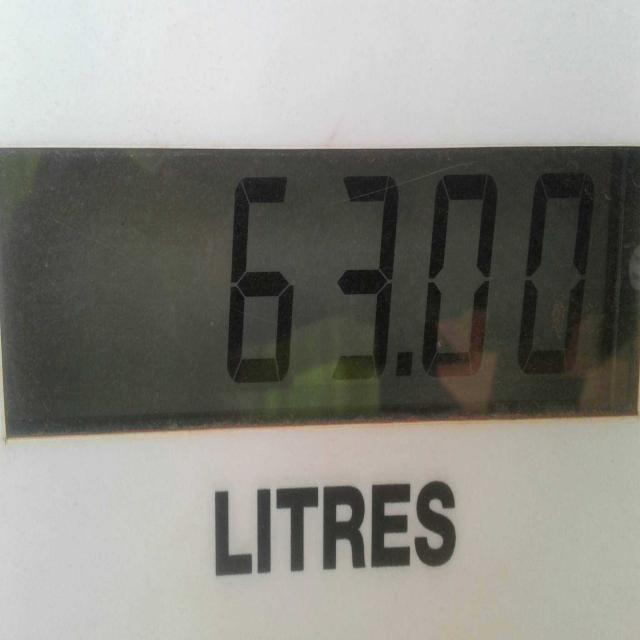.: (388, 328, 422, 403)
0: (516, 154, 610, 413), (419, 169, 503, 398)
3: (320, 163, 409, 396)
6: (214, 166, 304, 404)
